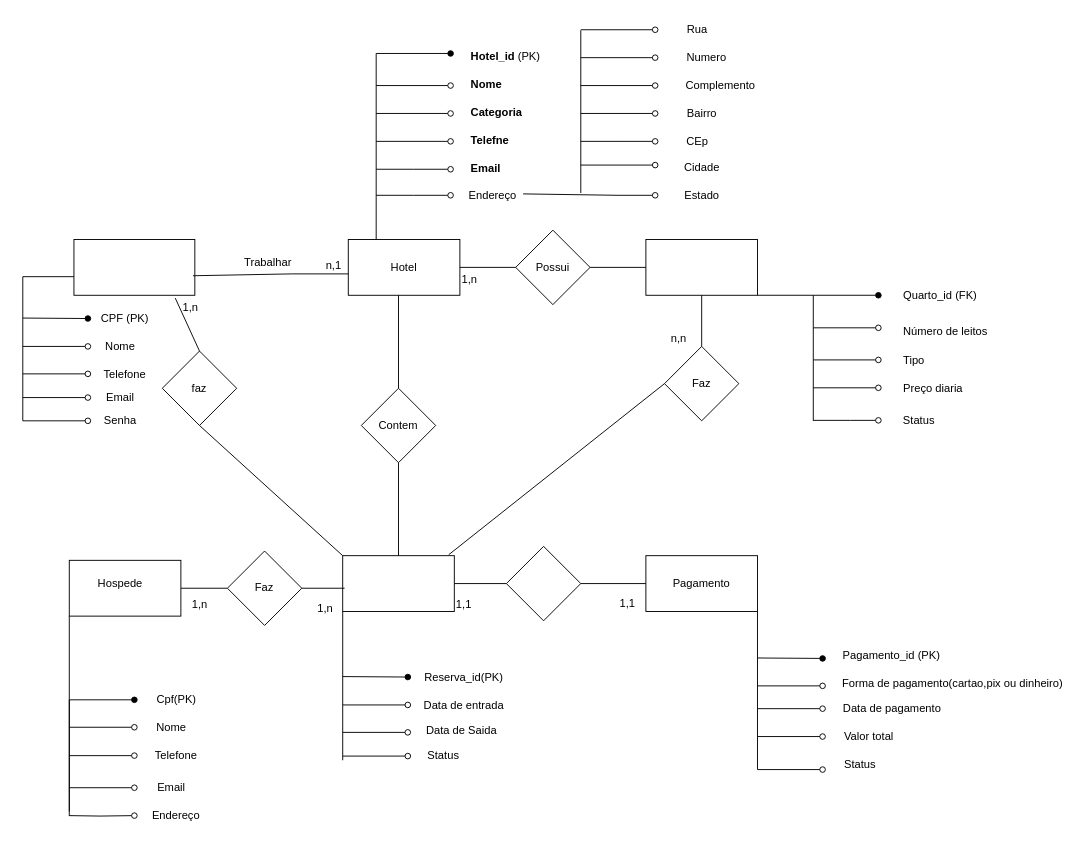
The diagram is 1090 pixels wide and 845 high, and some of its shapes have lost their labels. The shapes that lost their labels are listed below. From the top down, each one's centre as x and y in pixels, then its label:
the point at 134,267: Funcionario
the point at 701,267: Quarto
the point at 398,583: Reserva
the point at 543,583: Gera
